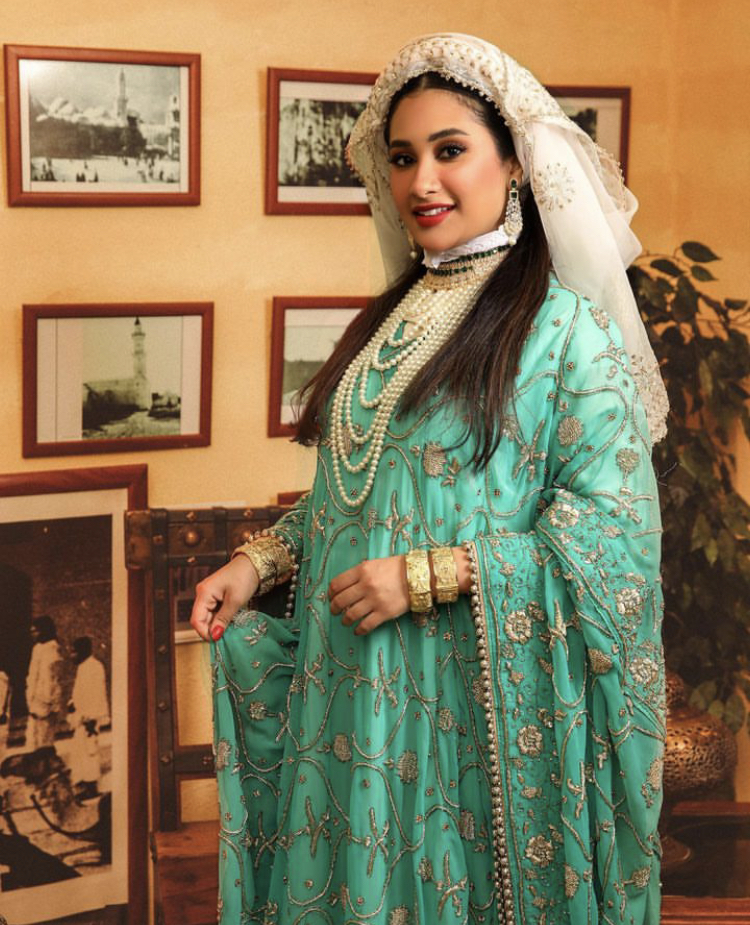Saudi_Founding_Day: (184, 21, 673, 920)
